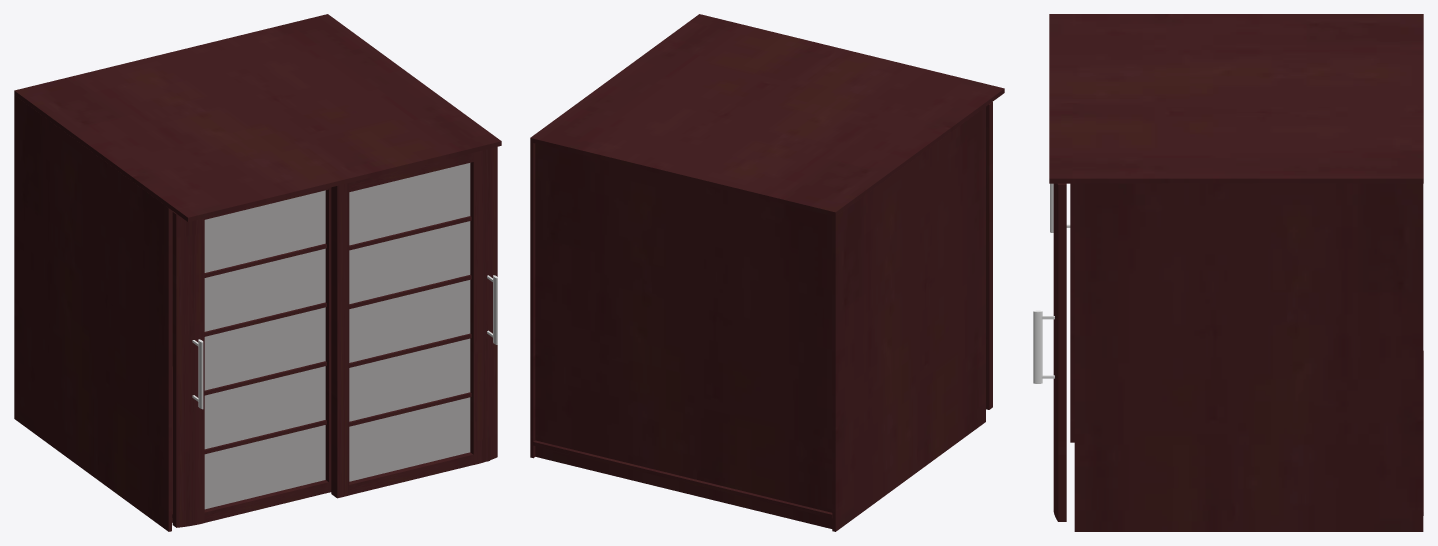
Rendered from sh-contrib-armoire-lotus.glb.
The picture shows the model from 3 angles, left to right: view 1: azimuth 30°, elevation 25°; view 2: azimuth 150°, elevation 25°; view 3: azimuth 270°, elevation 25°; orthographic projection. The views are drawn at different scales.
Parts seen in each view (by area): view 1: Cube_3_1, Cube_8_8, Cylinder_1_9; view 2: Cube_3_1; view 3: Cube_3_1, Cylinder_1_9.
Part boxes in pixels (bbox=[...]): Cube_3_1: bbox=[14, 14, 501, 531]; Cube_8_8: bbox=[204, 163, 470, 509]; Cylinder_1_9: bbox=[192, 275, 497, 409]; Cube_3_1: bbox=[530, 14, 1004, 531]; Cube_3_1: bbox=[1049, 14, 1423, 531]; Cylinder_1_9: bbox=[1033, 183, 1070, 383].
Bounding box in the file's own units: 1 × 1 × 1.
3 materials, 1 textured.
